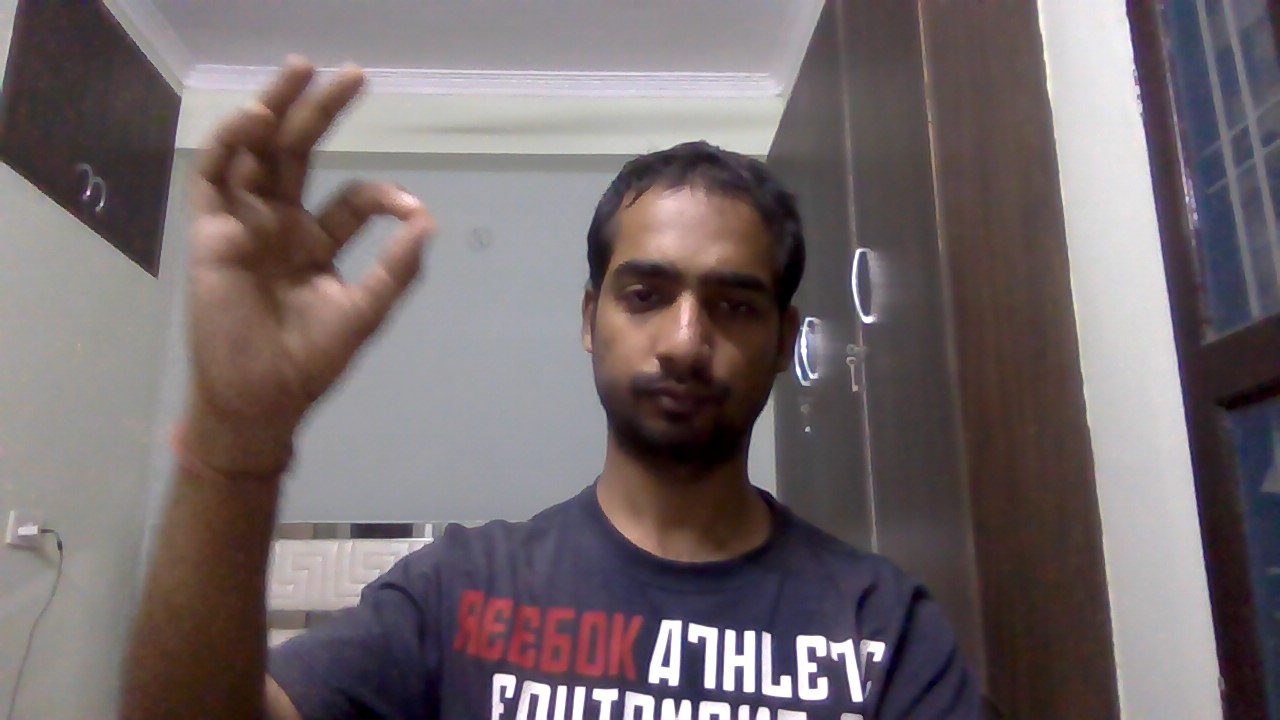Copy: (173, 44, 444, 439)
